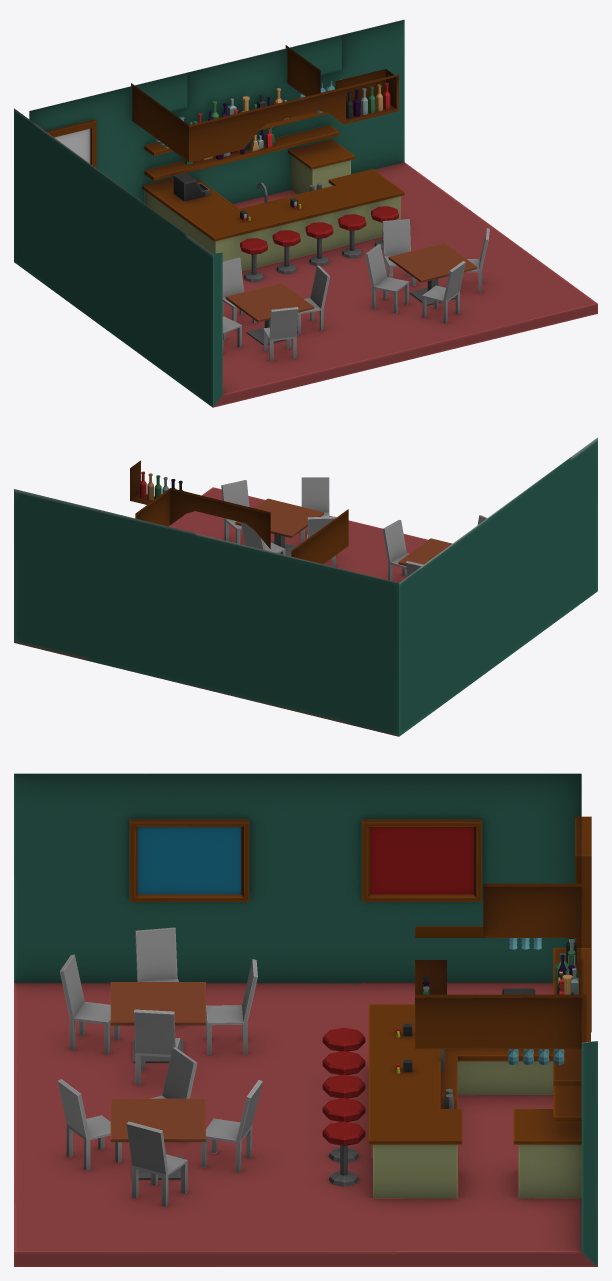
File: andybarmod.gltf
3 renders of one model, top to bottom at view 1: azimuth 30°, elevation 25°; view 2: azimuth 150°, elevation 25°; view 3: azimuth 270°, elevation 25°, orthographic. The views are drawn at different scales.
Visible parts, largest first — view 1: Bar; view 2: Bar; view 3: Bar.
Part boxes in pixels (bbox=[...]): Bar: bbox=[14, 19, 597, 407]; Bar: bbox=[14, 437, 597, 736]; Bar: bbox=[14, 773, 597, 1266].
Size of the model in its own units: 21.19 by 8.16 by 18.97.
2 materials, 2 textured.
